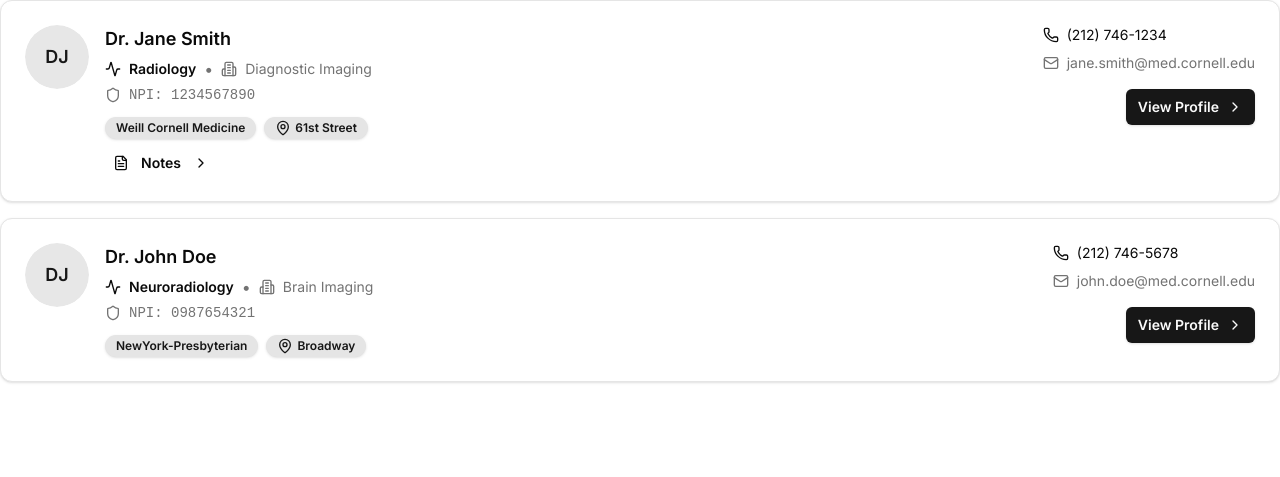
Scenario: ProviderTable › expands and collapses notes section
Expected: the text "Specializes in pediatric imaging" is not shown
// Click the Notes button
Click the button "Notes": coordinates (161, 163) [105,151,217,175]
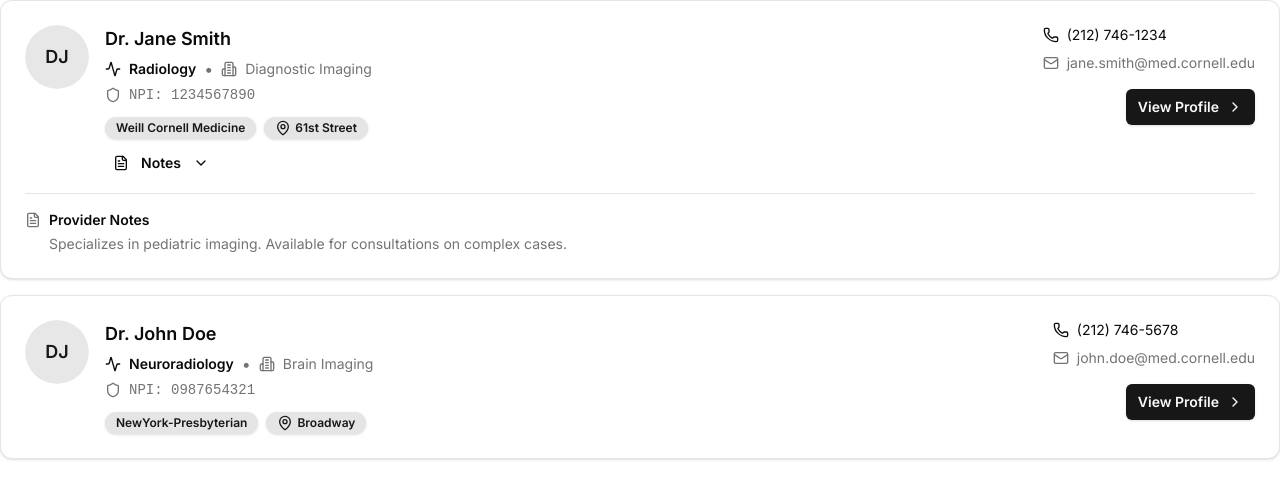
Expected: the text "Specializes in pediatric imaging" is shown, [49,235,567,252]
// Click again to collapse
Click the button "Notes": coordinates (161, 163) [105,151,217,175]
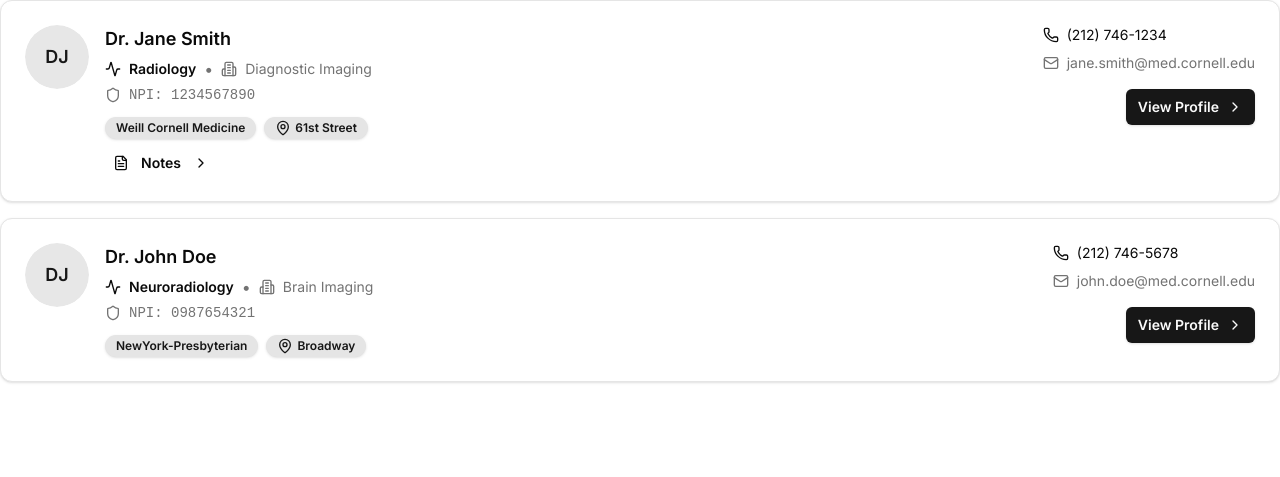
Expected: the text "Specializes in pediatric imaging" is gone
